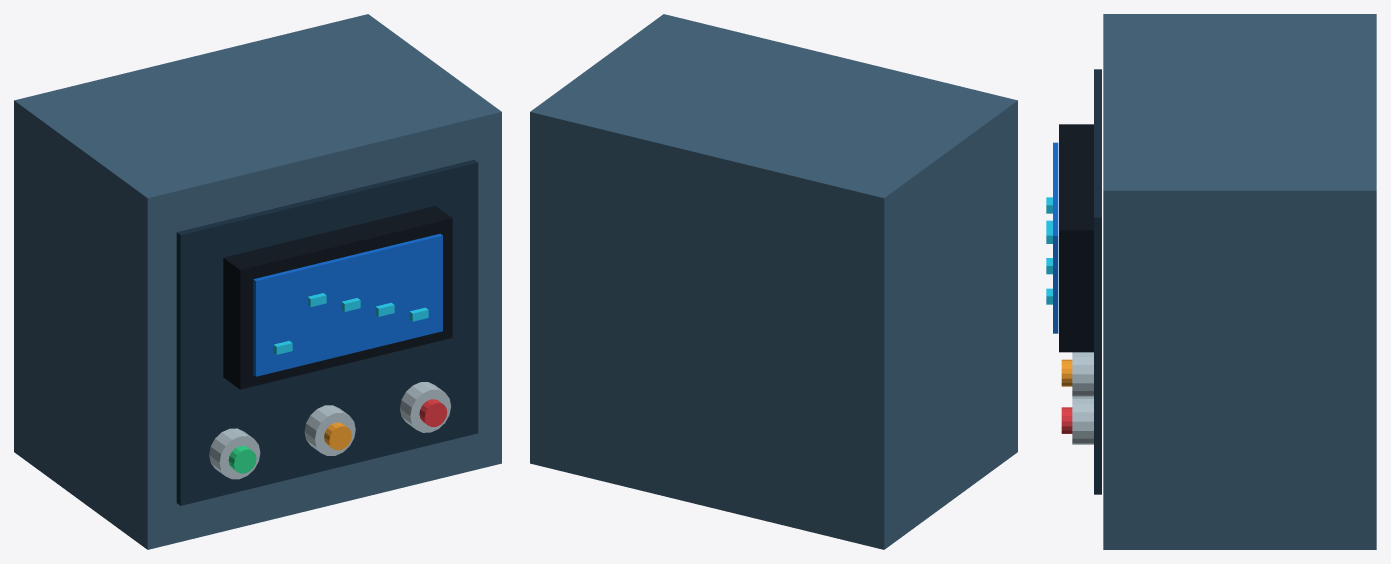
File: 45_L69_Regulated5VControlSupply.fbx
3 views of the same model, side by side, from view 1: azimuth 30°, elevation 25°; view 2: azimuth 150°, elevation 25°; view 3: azimuth 270°, elevation 25° (orthographic). The views are drawn at different scales.
Visible parts, largest first — view 1: Regulated5VControlSupply; view 2: Regulated5VControlSupply; view 3: Regulated5VControlSupply.
Boxes of the visible parts, x1,y1,x2,y2 form: Regulated5VControlSupply: [14, 14, 501, 549]; Regulated5VControlSupply: [530, 14, 1017, 549]; Regulated5VControlSupply: [1046, 14, 1376, 549].
Bounding box in the file's own units: 78 × 74 × 61.6.
